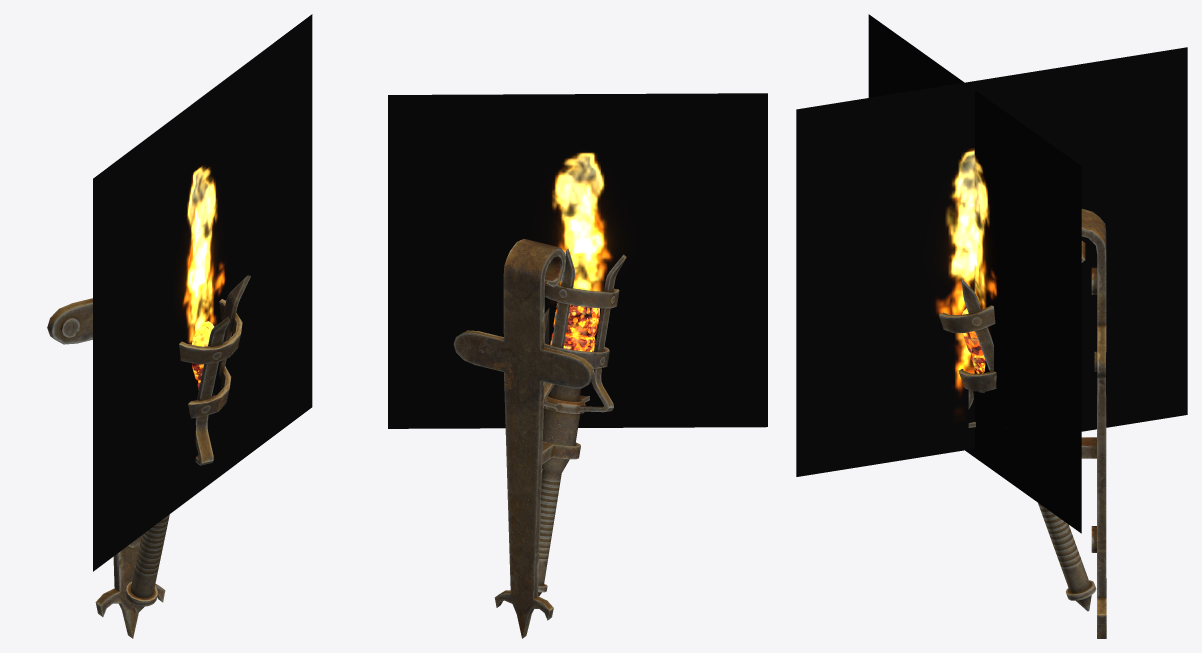
File: torch.glb
The picture shows the model from 3 angles, left to right: view 1: azimuth 30°, elevation 25°; view 2: azimuth 150°, elevation 25°; view 3: azimuth 270°, elevation 25°; orthographic projection. The views are drawn at different scales.
Parts seen in each view (by area): view 1: flames, torch; view 2: flames, torch; view 3: flames, torch.
Boxes of the visible parts, x1=… form: flames: x1=93, y1=14, x2=312, y2=571; torch: x1=47, y1=275, x2=250, y2=638; flames: x1=388, y1=93, x2=767, y2=428; torch: x1=453, y1=239, x2=626, y2=638; flames: x1=796, y1=14, x2=1187, y2=533; torch: x1=939, y1=209, x2=1106, y2=638.
Size of the model in its own units: 0.8317 by 1.43 by 0.9046.
2 materials, 2 textured.
